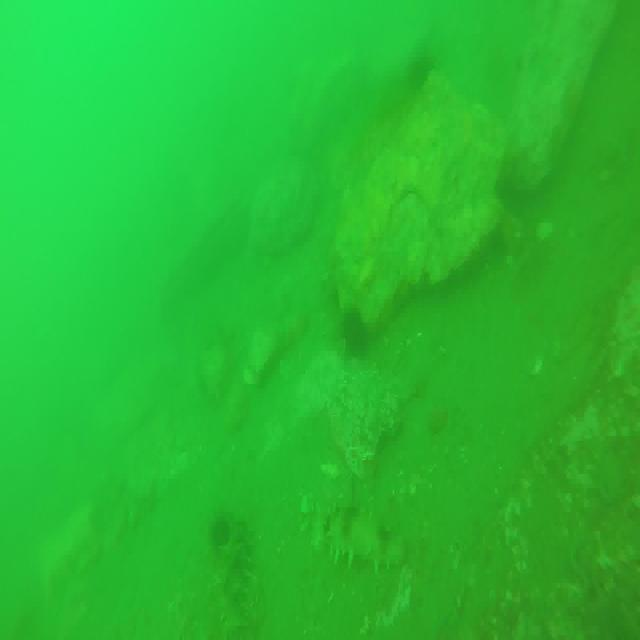echinus: (341, 306, 372, 362)
holothurian: (303, 494, 406, 570), (218, 520, 248, 640)
